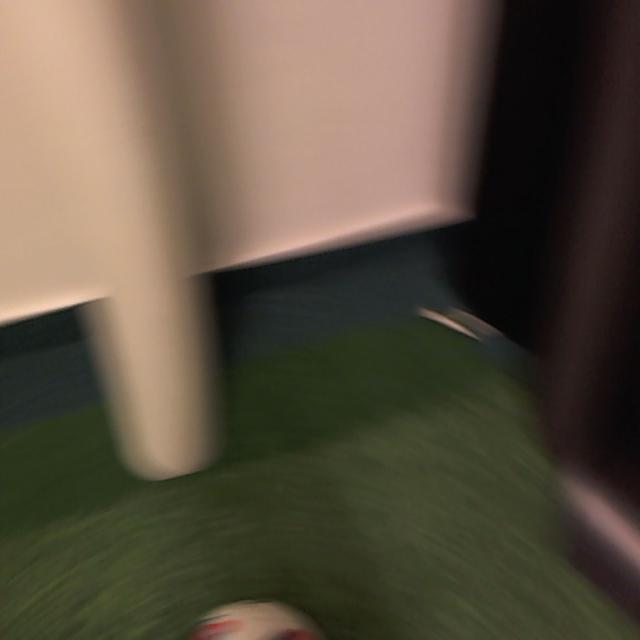ball: (184, 597, 320, 640)
goalpost: (70, 0, 210, 464)
